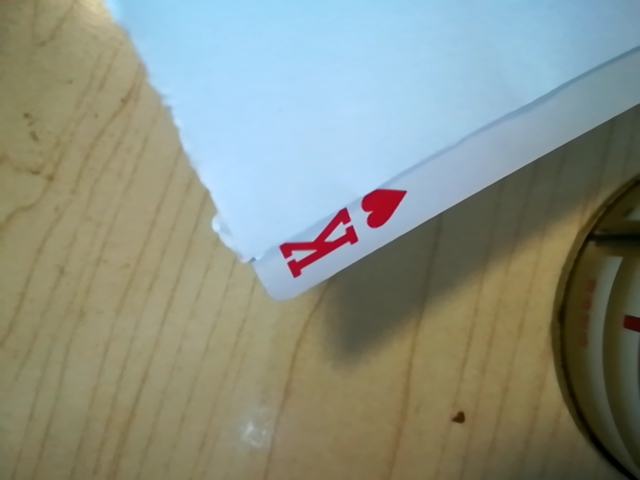hx k: (259, 179, 412, 290)
